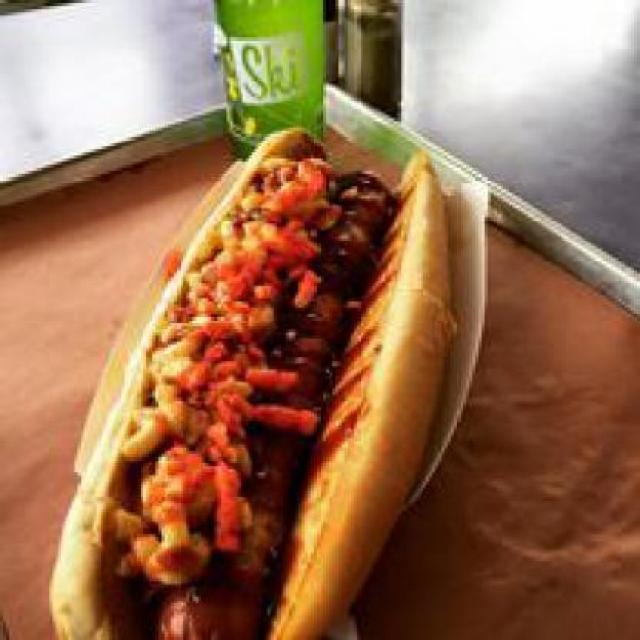hot dog: (152, 165, 386, 637)
macaroni and cheese: (102, 143, 324, 579)
